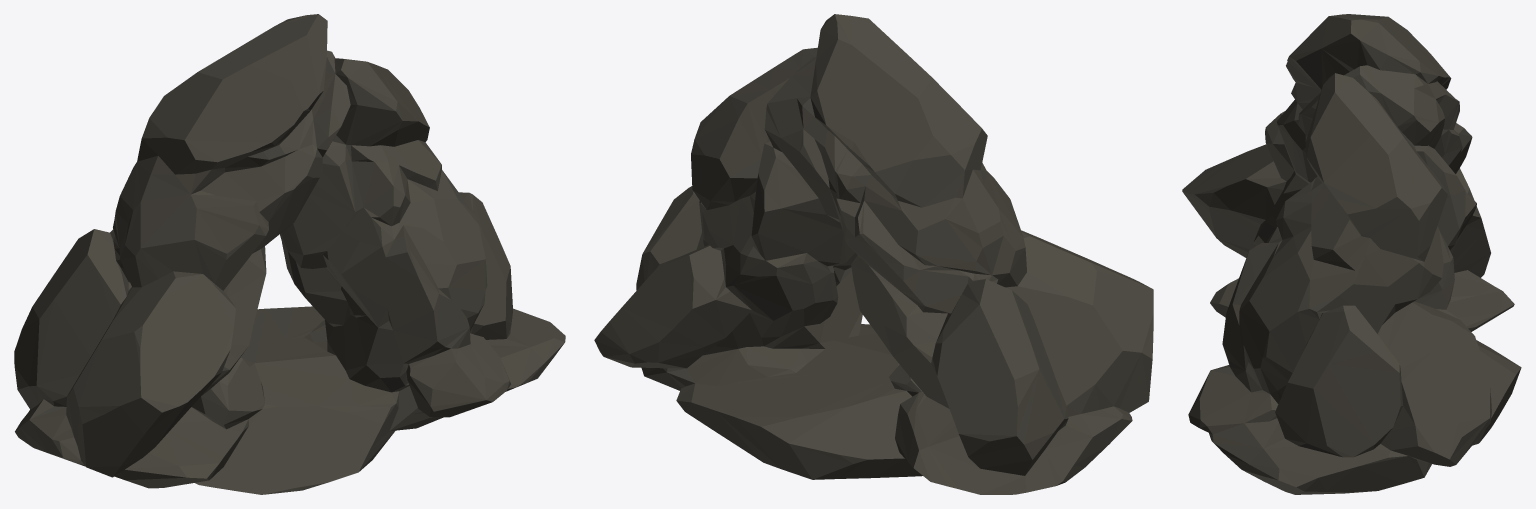
The model's file is synty-rock-caveentrance-01.gltf.
3 renders of one model, left to right at view 1: azimuth 30°, elevation 25°; view 2: azimuth 150°, elevation 25°; view 3: azimuth 270°, elevation 25°, orthographic.
Visible parts, largest first — view 1: SM_Rock_CaveEntrance_01; view 2: SM_Rock_CaveEntrance_01; view 3: SM_Rock_CaveEntrance_01.
Boxes of the visible parts, x1,y1,x2,y2 form: SM_Rock_CaveEntrance_01: (14, 14, 565, 494); SM_Rock_CaveEntrance_01: (594, 14, 1153, 494); SM_Rock_CaveEntrance_01: (1182, 14, 1521, 494).
Bounding box in the file's own units: 11.63 × 9.29 × 6.79.
Materials: 1 (1 with a texture image).
